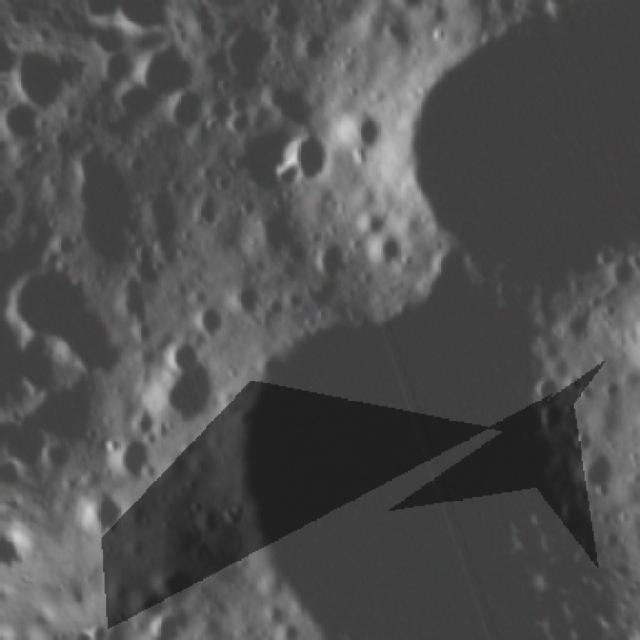crater: (198, 275, 619, 640), (243, 0, 640, 374), (199, 3, 299, 100), (133, 359, 224, 443), (88, 422, 162, 495), (271, 124, 344, 194), (59, 487, 133, 556), (322, 98, 395, 167), (0, 89, 55, 158), (156, 83, 216, 143), (222, 270, 283, 328), (105, 72, 163, 133), (358, 223, 414, 283), (565, 446, 624, 502), (181, 300, 233, 352), (301, 230, 353, 282), (90, 47, 142, 96), (346, 200, 396, 248), (614, 320, 640, 406), (30, 436, 78, 481), (437, 0, 521, 23), (533, 398, 575, 442), (0, 180, 26, 228), (209, 11, 240, 34), (86, 615, 114, 640), (112, 634, 146, 640)
